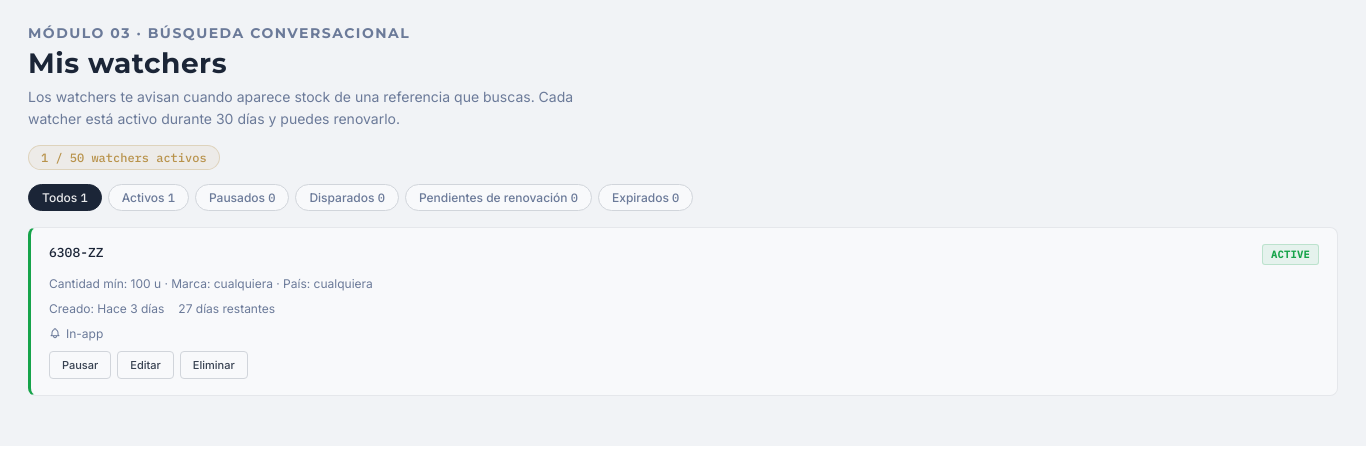
Watchers · chips › un chip sin filas pinta su mensaje de vacío y conserva los chips
The width and height of the screenshot is (1366, 463).
Expected: the element named "Watcher 6308-ZZ" is shown, 28,227 -> 1338,396
Click the button "Expirados 0": (646, 197) 598,184 -> 693,211
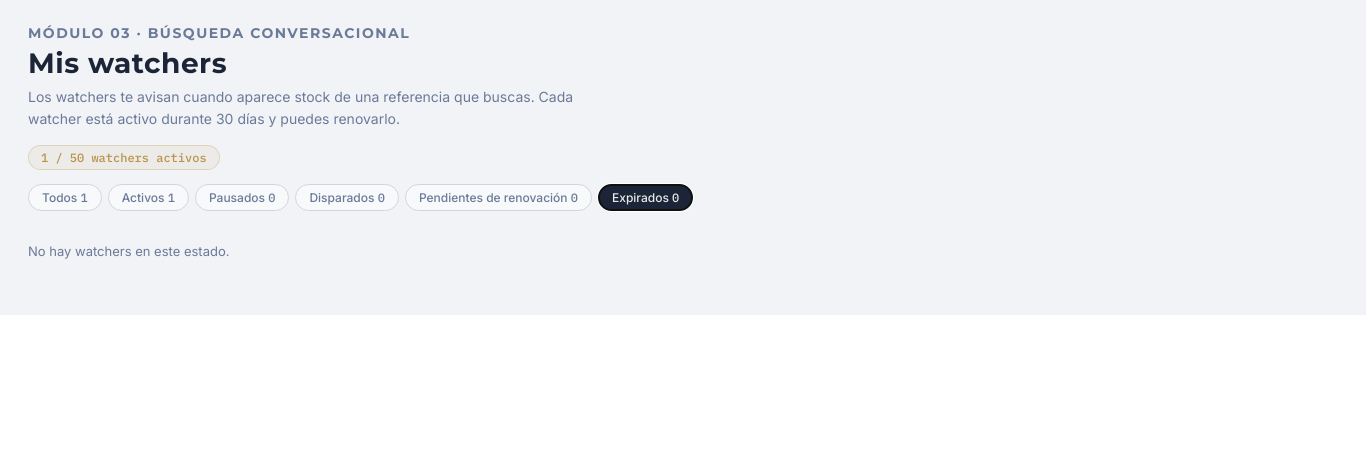
Expected: the button "Todos 1" is shown, 28,184 -> 102,211
Now the text "No hay watchers en este estado." is shown, box 28,243 -> 230,259
